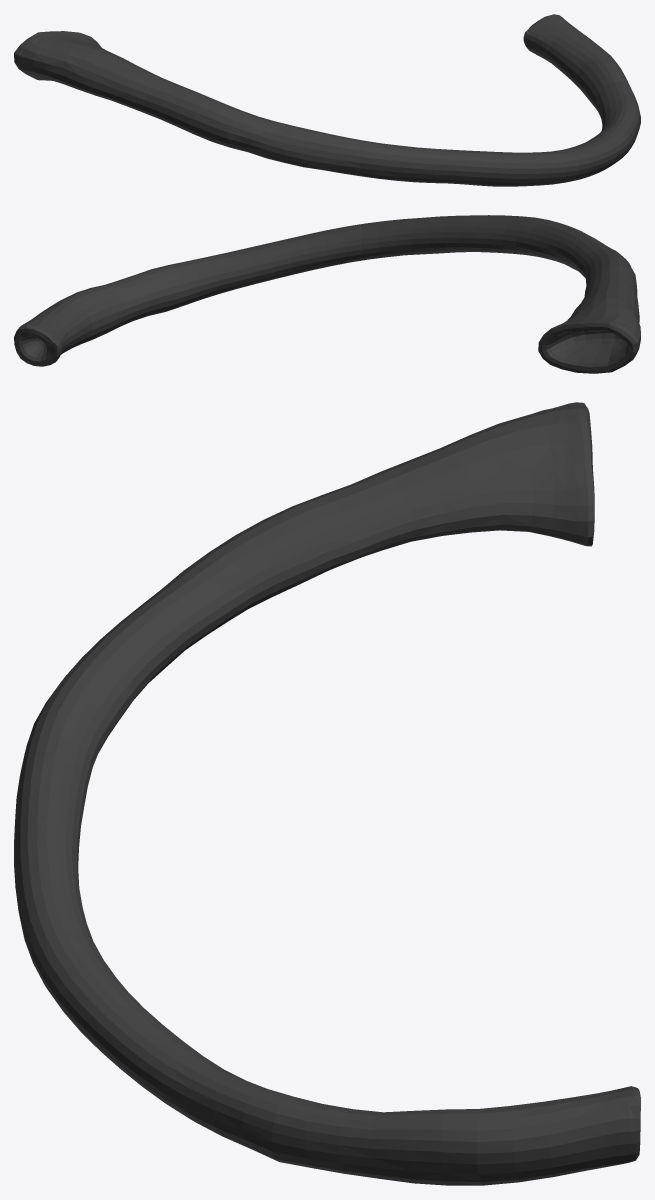
File: Semicircular_canal_lateral_L.glb
3 renders of one model, top to bottom at view 1: azimuth 30°, elevation 25°; view 2: azimuth 150°, elevation 25°; view 3: azimuth 270°, elevation 25°, orthographic. The views are drawn at different scales.
Visible parts, largest first — view 1: Semicircular_canal_lateral_L; view 2: Semicircular_canal_lateral_L; view 3: Semicircular_canal_lateral_L.
Boxes of the visible parts, x1=… form: Semicircular_canal_lateral_L: x1=14, y1=14, x2=640, y2=186; Semicircular_canal_lateral_L: x1=14, y1=215, x2=640, y2=373; Semicircular_canal_lateral_L: x1=14, y1=402, x2=640, y2=1185.
Bounding box in the file's own units: 2.1 × 0.5974 × 1.1.
1 material, 1 textured.
